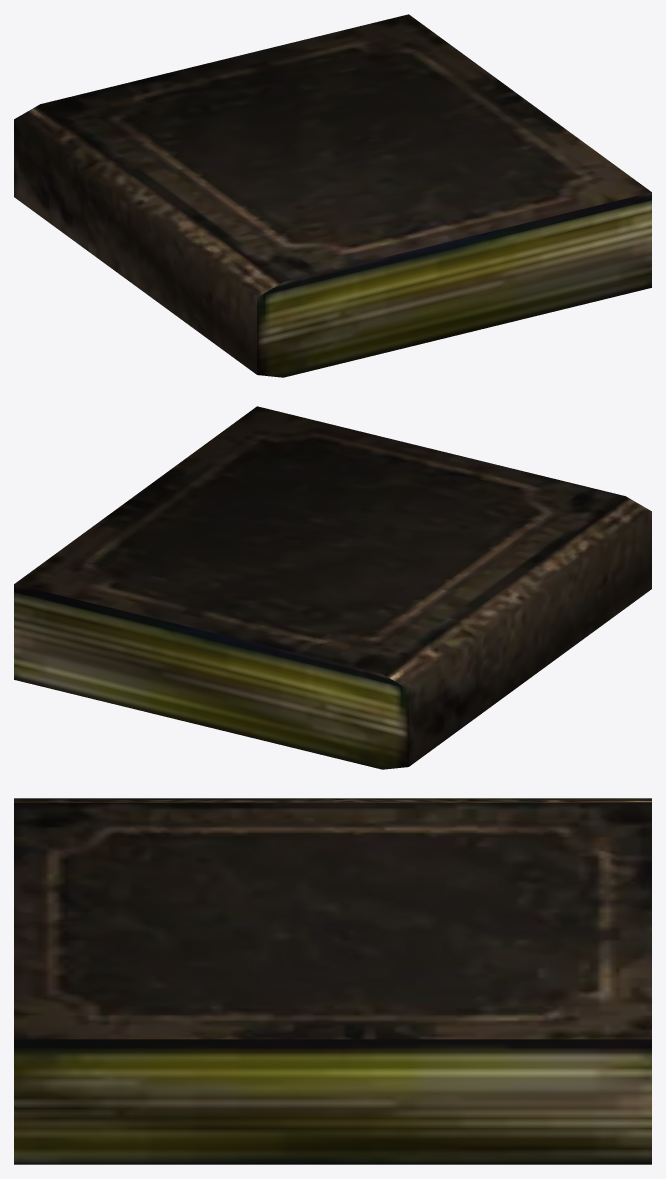
The model's file is KM_ITEM_RANDOM_BOOK_12.glb.
The picture shows the model from 3 angles, top to bottom: view 1: azimuth 30°, elevation 25°; view 2: azimuth 150°, elevation 25°; view 3: azimuth 270°, elevation 25°; orthographic projection. The views are drawn at different scales.
Parts seen in each view (by area): view 1: Mesh; view 2: Mesh; view 3: Mesh.
Boxes of the visible parts, box(x1,y1,x2,y2) form: Mesh: box(14, 14, 651, 377); Mesh: box(14, 406, 651, 769); Mesh: box(14, 798, 651, 1164).
Size of the model in its own units: 0.3 by 0.0694 by 0.32.
Materials: 2 (2 with a texture image).
